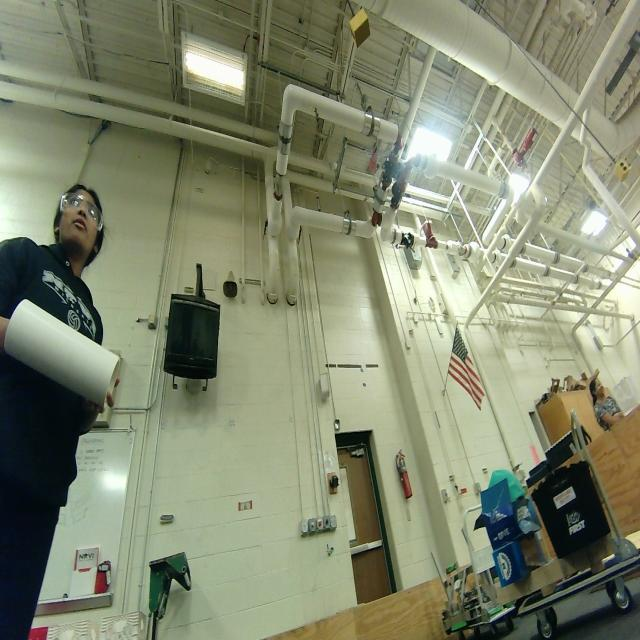coral: (1, 293, 129, 408)
